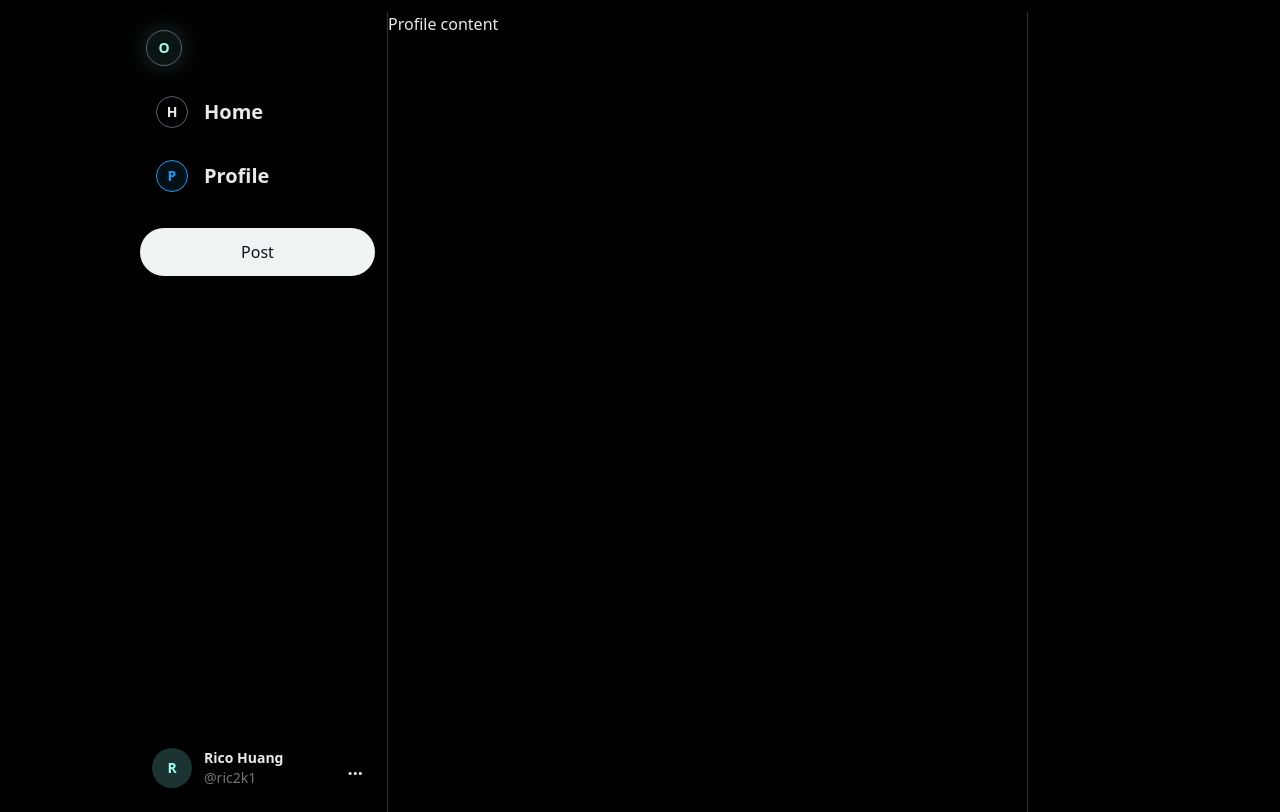
Test case: AppShell › renders the Phase 3 navigation and account logout popup
Click the button "R Rico Huang @ric2k1 ..." at x=258, y=768, box [140,736,375,800]
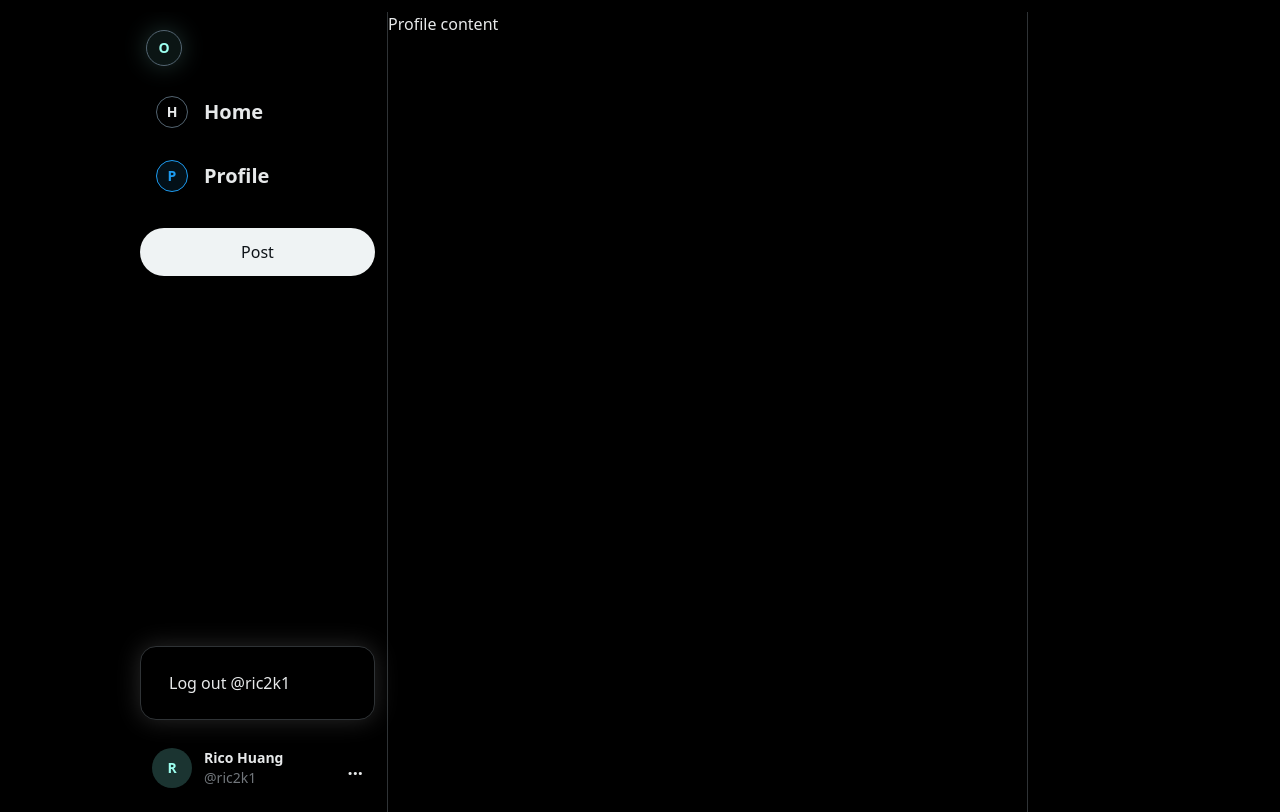
Check: the button "Log out @ric2k1" is shown, box [153,659,362,707]
